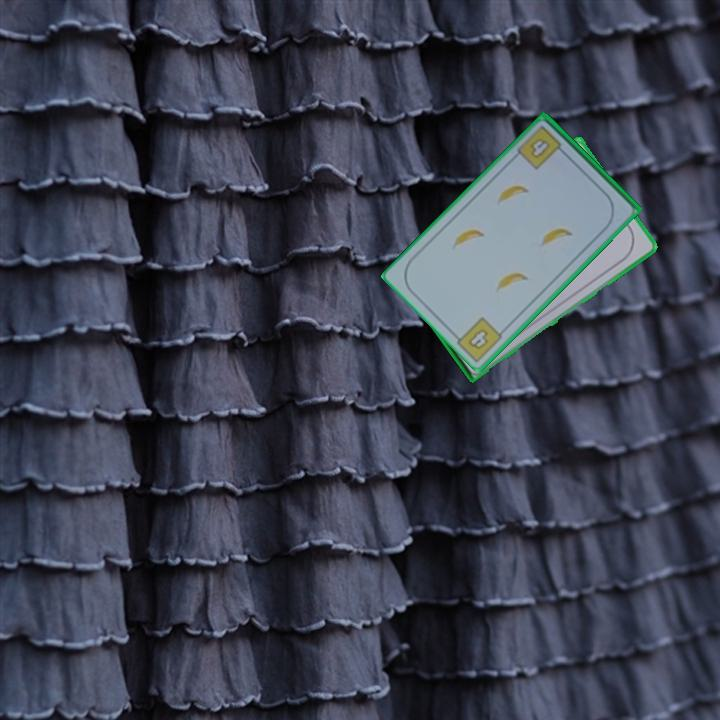4b: (515, 122, 569, 173), (464, 325, 491, 353)
